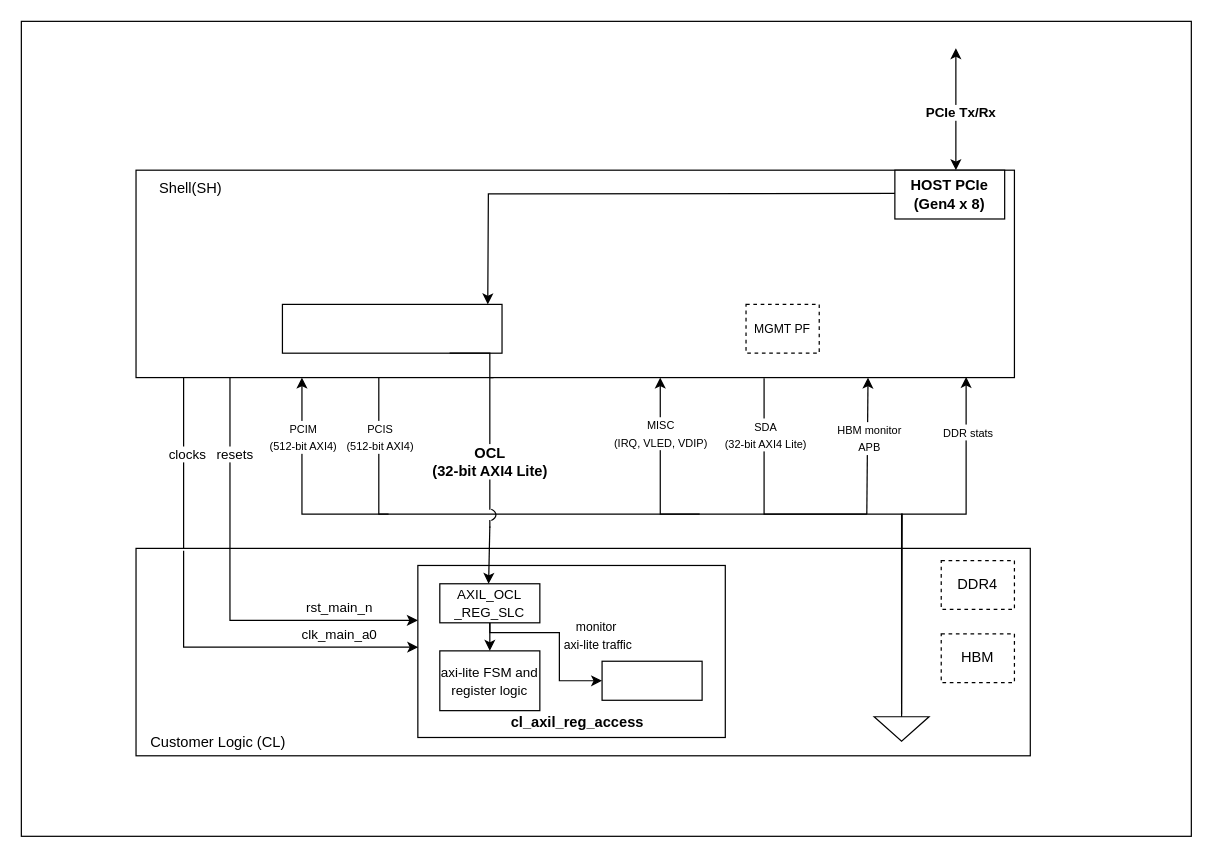
Image size: 1213x858. Some labels were removed from this diagram. The shapes that lost their labels are listed below. From the top down, each one's centre as x and y in pixels, then its label:
At [391,328]: "APP PF".
At [651,680]: "OCL_AXIL_ILA".
At [901,722]: "gnd".
